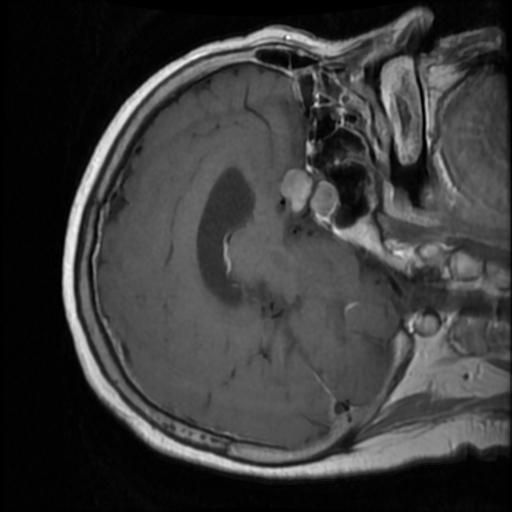pituitary tumour: (280, 169, 334, 217)
